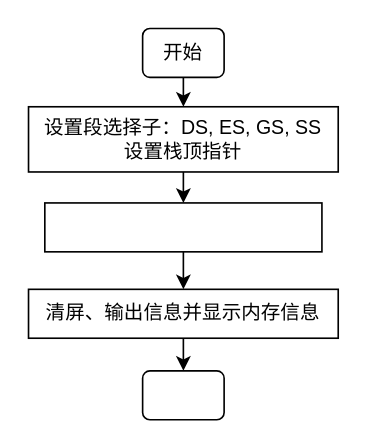
Image size: 367x448. Some labels were removed from this diagram. Each missing label, with the centre of its shape:
"结束" goes at point 182,394.
"设置定时芯片并初始化中断" goes at point 182,226.
